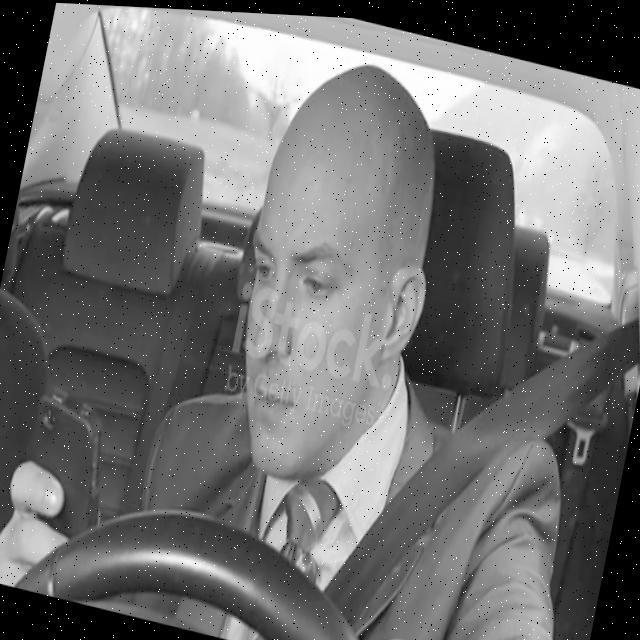PhoneCall: (10, 380, 118, 554)
